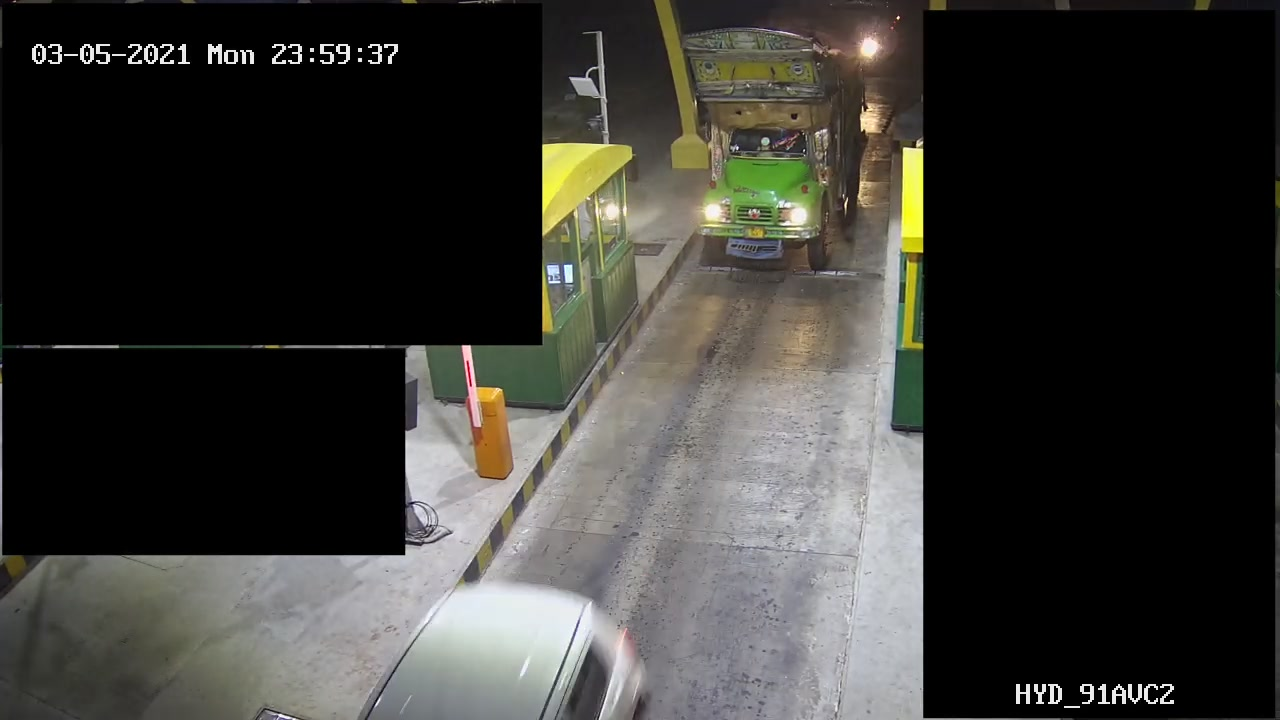F5: (680, 19, 871, 294)
